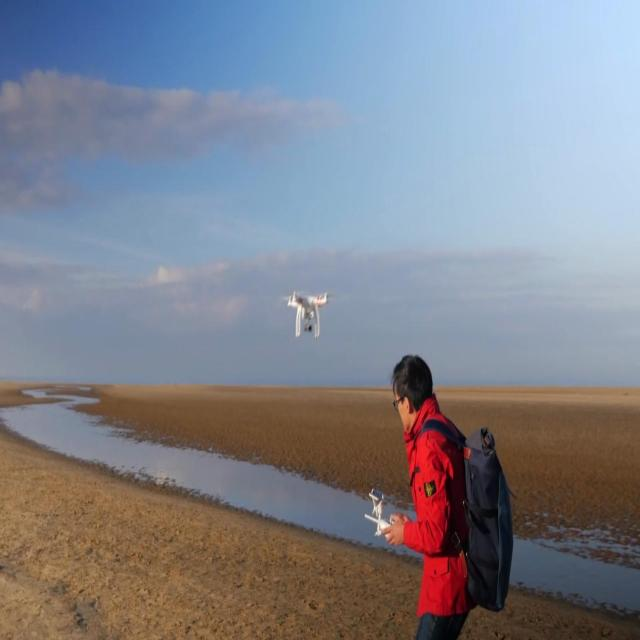drone: (286, 286, 332, 340)
